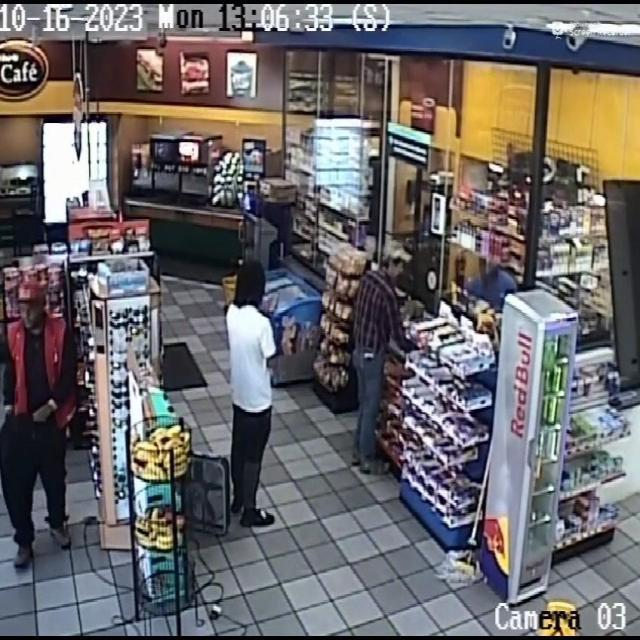Normal: (206, 235, 310, 548), (2, 266, 82, 570), (348, 214, 423, 495)
